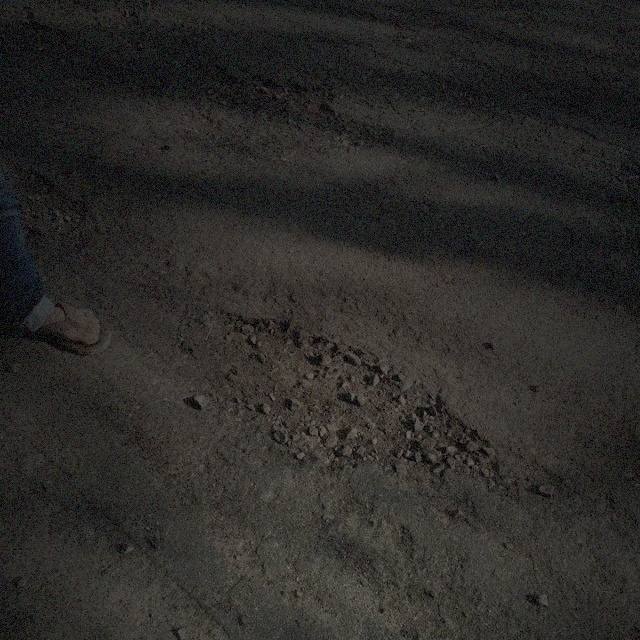pothole: (197, 303, 511, 495), (184, 60, 340, 126), (11, 162, 92, 242), (33, 0, 151, 34), (0, 0, 67, 53)
